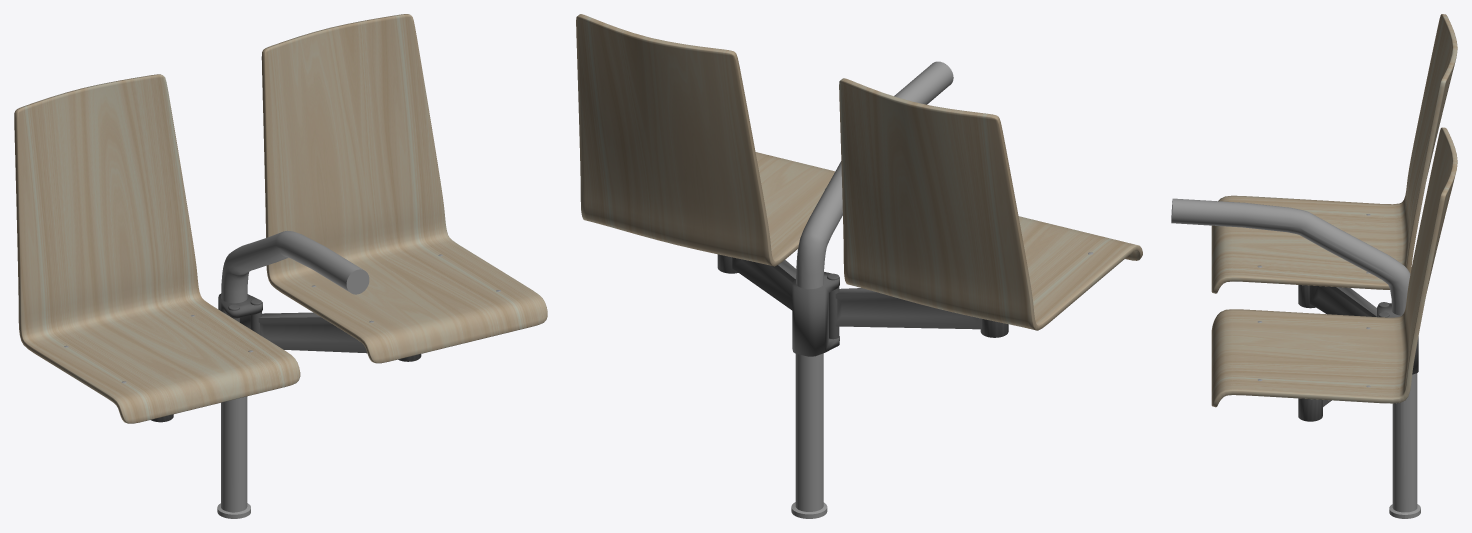
Rendered from chairs.dae.
3 renders of one model, left to right at view 1: azimuth 30°, elevation 25°; view 2: azimuth 150°, elevation 25°; view 3: azimuth 270°, elevation 25°, orthographic. The views are drawn at different scales.
Visible parts, largest first — view 1: zidle14, trubka0, podpery02, kloub; view 2: zidle14, trubka0, podpery02, kloub, podpery07; view 3: zidle14, trubka0, podpery02, podpery07.
Part boxes in pixels (box(x1,y1,x2,y2)): zidle14: box(14, 14, 547, 423); trubka0: box(221, 231, 362, 512); podpery02: box(258, 312, 366, 353); kloub: box(218, 293, 262, 328); zidle14: box(576, 14, 1142, 330); trubka0: box(795, 61, 953, 511); podpery02: box(732, 257, 982, 329); kloub: box(792, 272, 839, 356); podpery07: box(717, 254, 1008, 337); zidle14: box(1211, 14, 1457, 407); trubka0: box(1171, 198, 1417, 512); podpery02: box(1309, 285, 1376, 406); podpery07: box(1298, 285, 1322, 421).
Size of the model in its own units: 93.15 by 91.01 by 57.76.
